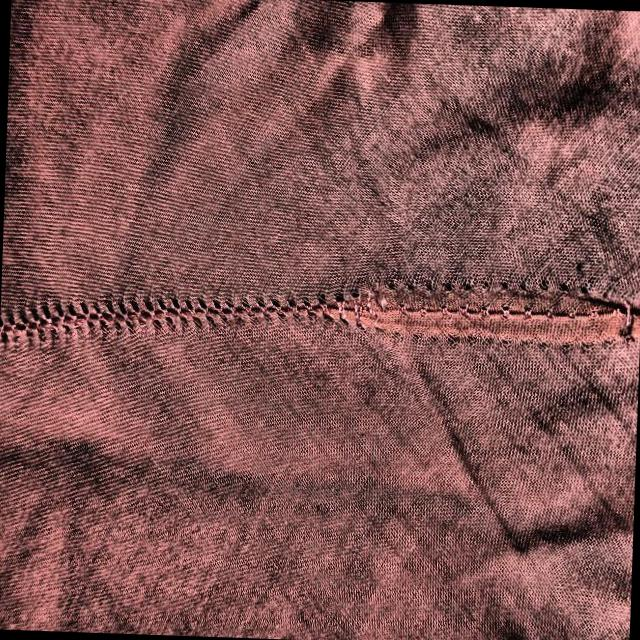gray stitch: (315, 261, 635, 352)
